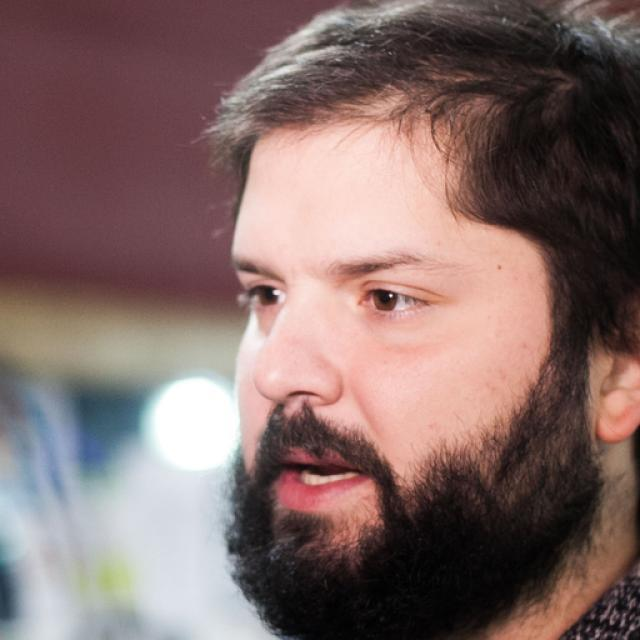fear: (226, 119, 586, 640)
